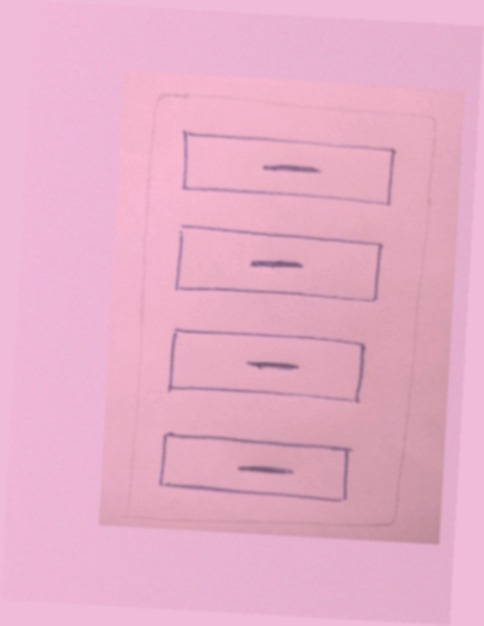button: (174, 123, 403, 217), (162, 319, 372, 414), (169, 220, 388, 311), (152, 424, 357, 513)
